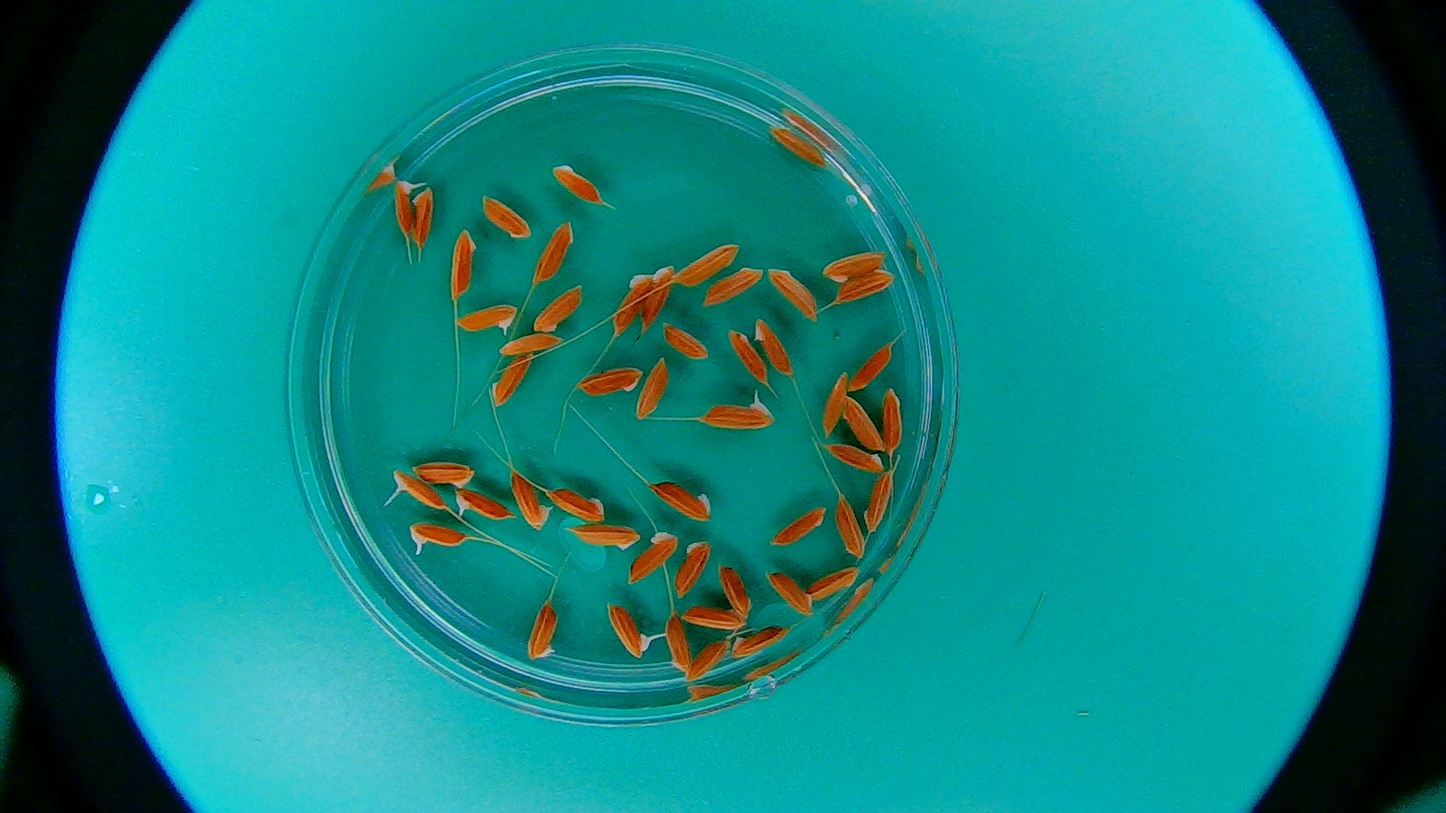no: (672, 235, 741, 288), (764, 123, 831, 173), (766, 262, 820, 322), (623, 531, 680, 586), (696, 266, 764, 312), (509, 467, 555, 534), (651, 474, 712, 522), (532, 218, 575, 286), (480, 190, 536, 242), (528, 285, 584, 335), (725, 326, 772, 385), (843, 390, 886, 452), (752, 316, 795, 377), (847, 341, 895, 395), (488, 354, 535, 409), (612, 273, 653, 336), (545, 486, 609, 525), (524, 601, 563, 665), (833, 267, 896, 306), (770, 504, 827, 547), (634, 354, 670, 422), (566, 521, 642, 553), (410, 455, 475, 492), (716, 562, 757, 620), (820, 248, 886, 284), (684, 636, 731, 685), (764, 571, 813, 618), (550, 161, 602, 205), (834, 492, 868, 559), (577, 364, 641, 399), (639, 263, 674, 327), (675, 537, 712, 597), (730, 623, 787, 660), (449, 227, 478, 299), (822, 441, 885, 473), (677, 604, 746, 633), (864, 468, 894, 534), (661, 321, 710, 361), (662, 610, 691, 677), (807, 566, 862, 601), (822, 370, 848, 440), (496, 330, 566, 355), (410, 186, 438, 248), (880, 387, 905, 454)
yes: (703, 397, 780, 434), (388, 470, 447, 514), (452, 486, 516, 526), (453, 301, 517, 340), (606, 606, 648, 656), (410, 522, 470, 552), (392, 177, 416, 236)
